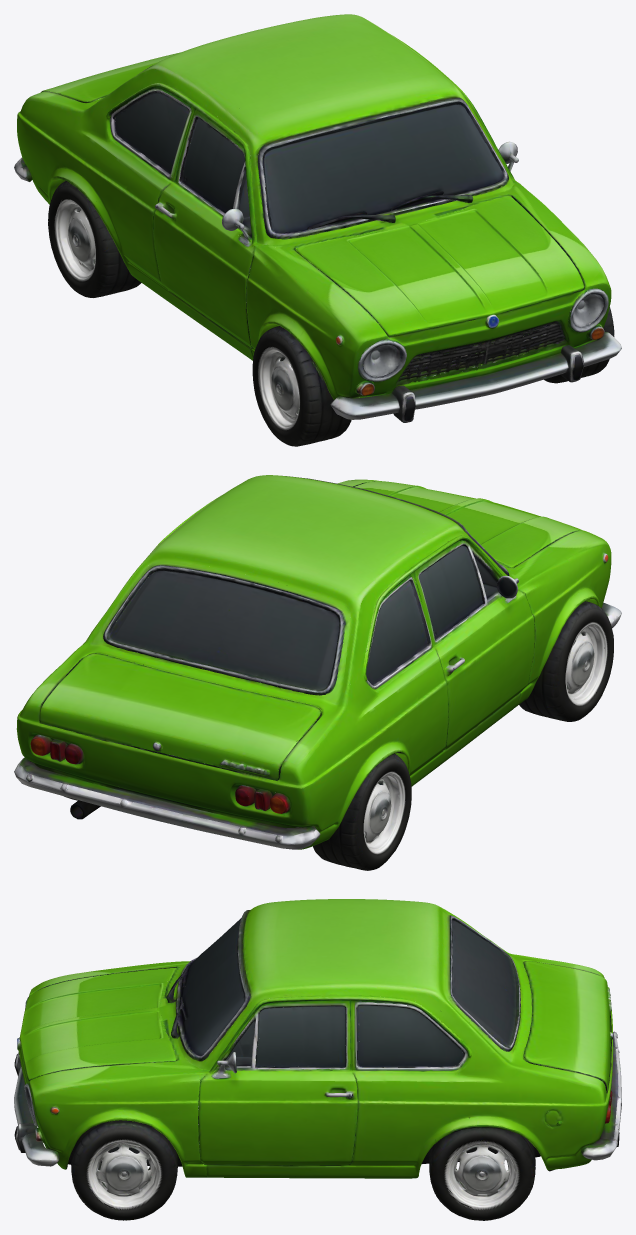
File: anadol_a1.glb
The picture shows the model from 3 angles, top to bottom: view 1: azimuth 30°, elevation 25°; view 2: azimuth 150°, elevation 25°; view 3: azimuth 270°, elevation 25°; orthographic projection. The views are drawn at different scales.
Parts seen in each view (by area): view 1: tripo_part_0, tripo_part_3, tripo_part_6, tripo_part_2, tripo_part_15, tripo_part_1, tripo_part_5, tripo_part_7, tripo_part_17, tripo_part_19, tripo_part_14, tripo_part_12 (+9 smaller); view 2: tripo_part_0, tripo_part_3, tripo_part_16, tripo_part_12, tripo_part_15, tripo_part_13, tripo_part_6, tripo_part_1, tripo_part_7, tripo_part_19, tripo_part_17, tripo_part_10 (+2 smaller); view 3: tripo_part_0, tripo_part_3, tripo_part_6, tripo_part_14, tripo_part_12, tripo_part_16, tripo_part_2, tripo_part_22, tripo_part_18, tripo_part_11, tripo_part_4, tripo_part_9 (+7 smaller).
Boxes of the visible parts, left/top/right/bottom form: tripo_part_0: left=17, top=35, right=597, bottom=398; tripo_part_3: left=97, top=14, right=467, bottom=158; tripo_part_6: left=295, top=196, right=586, bottom=336; tripo_part_2: left=258, top=98, right=508, bottom=239; tripo_part_15: left=246, top=244, right=387, bottom=399; tripo_part_1: left=252, top=326, right=351, bottom=446; tripo_part_5: left=330, top=332, right=621, bottom=422; tripo_part_7: left=48, top=181, right=141, bottom=297; tripo_part_17: left=181, top=118, right=244, bottom=213; tripo_part_19: left=115, top=92, right=189, bottom=173; tripo_part_14: left=512, top=183, right=611, bottom=327; tripo_part_12: left=41, top=52, right=180, bottom=102; tripo_part_0: left=16, top=496, right=594, bottom=849; tripo_part_3: left=97, top=475, right=468, bottom=685; tripo_part_16: left=103, top=564, right=345, bottom=695; tripo_part_12: left=39, top=653, right=321, bottom=780; tripo_part_15: left=510, top=530, right=611, bottom=707; tripo_part_13: left=14, top=757, right=320, bottom=849; tripo_part_6: left=354, top=481, right=581, bottom=567; tripo_part_1: left=519, top=601, right=613, bottom=721; tripo_part_7: left=313, top=754, right=411, bottom=870; tripo_part_19: left=366, top=581, right=427, bottom=684; tripo_part_17: left=419, top=545, right=482, bottom=639; tripo_part_10: left=364, top=776, right=399, bottom=848; tripo_part_0: left=17, top=912, right=619, bottom=1178; tripo_part_3: left=242, top=899, right=496, bottom=1055; tripo_part_6: left=17, top=967, right=175, bottom=1081; tripo_part_14: left=28, top=1061, right=206, bottom=1177; tripo_part_12: left=523, top=961, right=611, bottom=1093; tripo_part_16: left=446, top=915, right=520, bottom=1051; tripo_part_2: left=175, top=910, right=249, bottom=1061; tripo_part_22: left=256, top=1006, right=345, bottom=1067; tripo_part_18: left=358, top=1005, right=463, bottom=1067; tripo_part_11: left=71, top=1120, right=177, bottom=1220; tripo_part_4: left=429, top=1127, right=535, bottom=1220; tripo_part_9: left=89, top=1141, right=159, bottom=1206.
Size of the model in its own units: 0.5226 by 0.4075 by 0.9987.
Materials: 1 (1 with a texture image).
